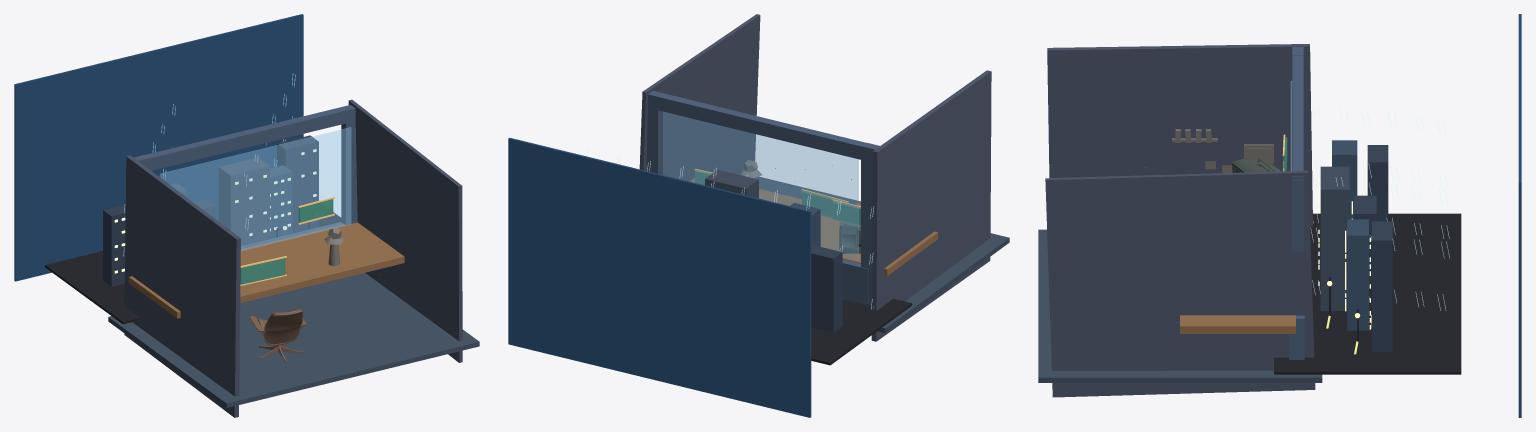
The model's file is window-side-room-authored.glb.
3 renders of one model, left to right at view 1: azimuth 30°, elevation 25°; view 2: azimuth 150°, elevation 25°; view 3: azimuth 270°, elevation 25°, orthographic. The views are drawn at different scales.
Visible parts, largest first — view 1: ExteriorSkyPlane, Floor, LeftWall, RightWall, WindowGlass, DeskTop, ExteriorBuilding_04, WindowTopFrame, ExteriorWetRoad, ExteriorBuilding_06, ExteriorBuilding_01, WindowRightFrame (+5 smaller); view 2: ExteriorSkyPlane, LeftWall, WindowGlass, RightWall, WindowTopFrame, ExteriorWetRoad, Floor, ExteriorBuilding_01, DeskTop, WindowLeftFrame, WindowSillInner, WindowRightFrame (+5 smaller); view 3: RightWall, LeftWall, ExteriorWetRoad, Floor, ExteriorBuilding_04, ExteriorBuilding_06, ExteriorBuilding_05, DeskTop, ExteriorSkyPlane, ExteriorBuilding_01, WindowTopFrame, ExteriorBuilding_02 (+6 smaller).
Boxes of the visible parts, x1,y1,x2,y2 form: ExteriorSkyPlane: (14,14,303,281); Floor: (108,273,479,407); LeftWall: (124,155,240,417); RightWall: (348,99,462,362); WindowGlass: (160,127,351,250); DeskTop: (128,222,404,318); ExteriorBuilding_04: (218,157,269,245); WindowTopFrame: (148,105,355,170); ExteriorWetRoad: (45,212,341,324); ExteriorBuilding_06: (277,135,318,233); ExteriorBuilding_01: (103,205,125,286); WindowRightFrame: (341,111,357,224); ExteriorSkyPlane: (508,137,811,417); LeftWall: (871,70,991,341); WindowGlass: (663,112,858,260); RightWall: (639,14,760,181); WindowTopFrame: (647,91,864,159); ExteriorWetRoad: (811,298,912,365); Floor: (756,176,1009,333); ExteriorBuilding_01: (811,244,842,332); DeskTop: (690,178,937,276); WindowLeftFrame: (861,142,879,305); WindowSillInner: (842,259,868,305); WindowRightFrame: (646,108,662,174); RightWall: (1045,170,1315,397); LeftWall: (1047,44,1312,226); ExteriorWetRoad: (1274,213,1461,374); Floor: (1038,229,1322,382); ExteriorBuilding_04: (1320,166,1349,310); ExteriorBuilding_06: (1372,221,1392,351); ExteriorBuilding_05: (1347,219,1368,330); DeskTop: (1180,315,1295,333); ExteriorSkyPlane: (1518,14,1521,417); ExteriorBuilding_01: (1367,145,1388,221); WindowTopFrame: (1292,55,1303,180); ExteriorBuilding_02: (1332,140,1357,219).
Bounding box in the file's own units: 6.6 × 4.3 × 8.
